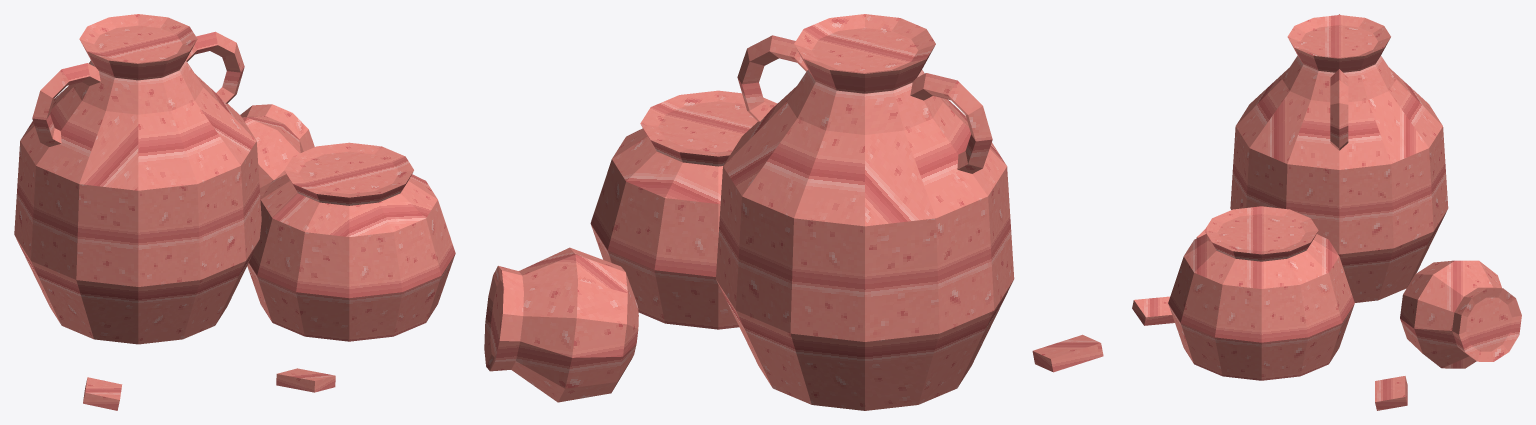
Rendered from ruins_pots.glb.
3 renders of one model, left to right at view 1: azimuth 30°, elevation 25°; view 2: azimuth 150°, elevation 25°; view 3: azimuth 270°, elevation 25°, orthographic. The views are drawn at different scales.
Parts seen in each view (by area): view 1: Pots; view 2: Pots; view 3: Pots.
Boxes of the visible parts, x1,y1,x2,y2 form: Pots: (14,14,455,410); Pots: (484,14,1103,410); Pots: (1132,14,1521,410).
Size of the model in its own units: 1.58 by 1.09 by 1.5.
Materials: 1 (1 with a texture image).
